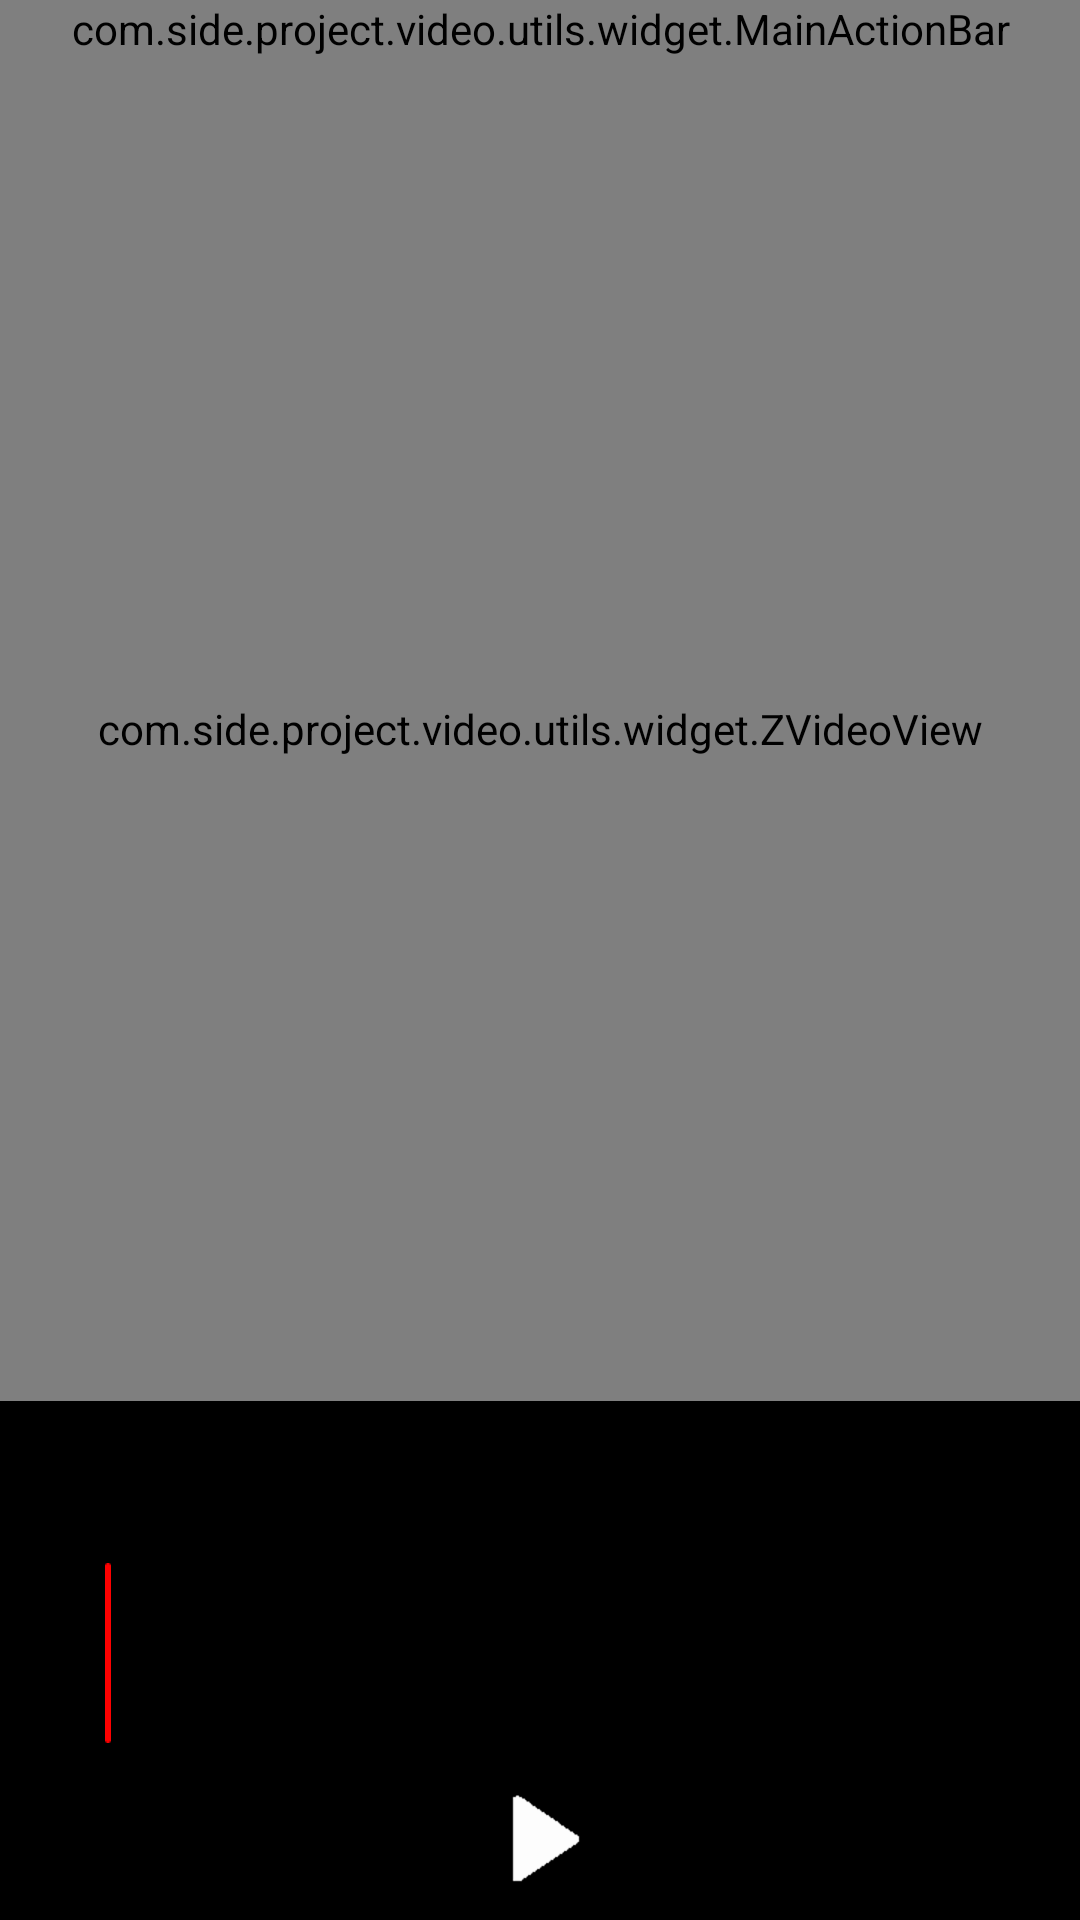

Where icons sit on this 1080px x 1920px app screen, as (x1, y1, x2, y2):
video play: (512, 1795, 580, 1882)
